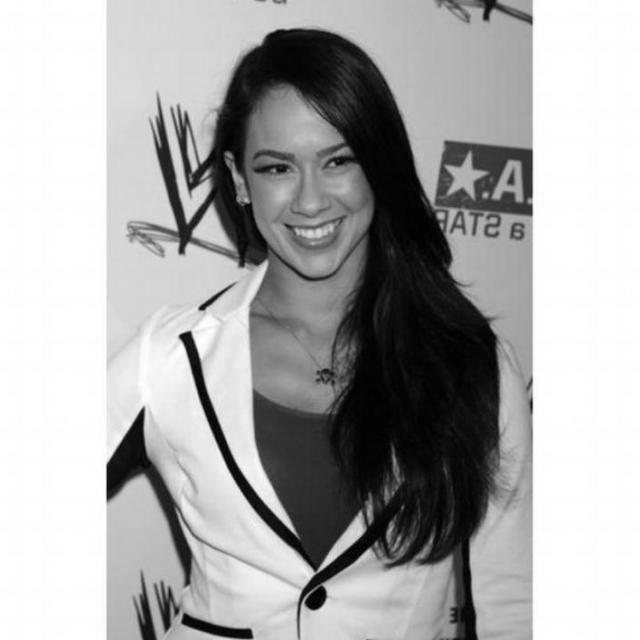real: (212, 20, 404, 298)
